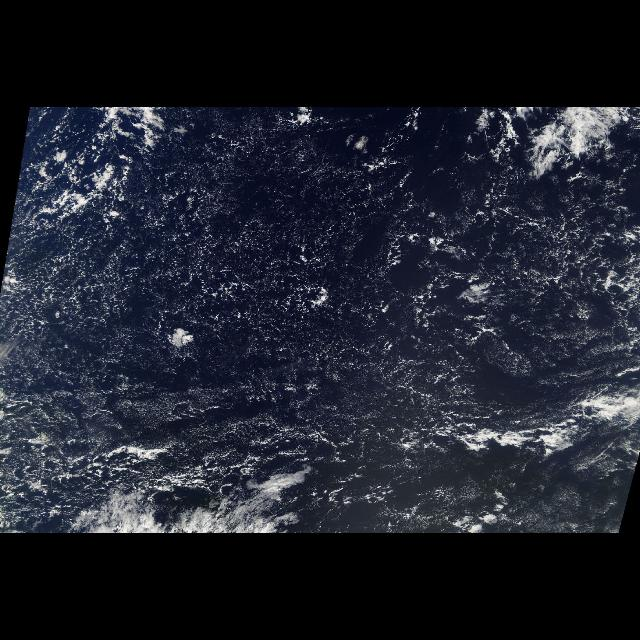Gravel: (8, 114, 638, 392)
Sugar: (10, 298, 414, 439), (159, 148, 373, 288), (304, 453, 634, 533)
